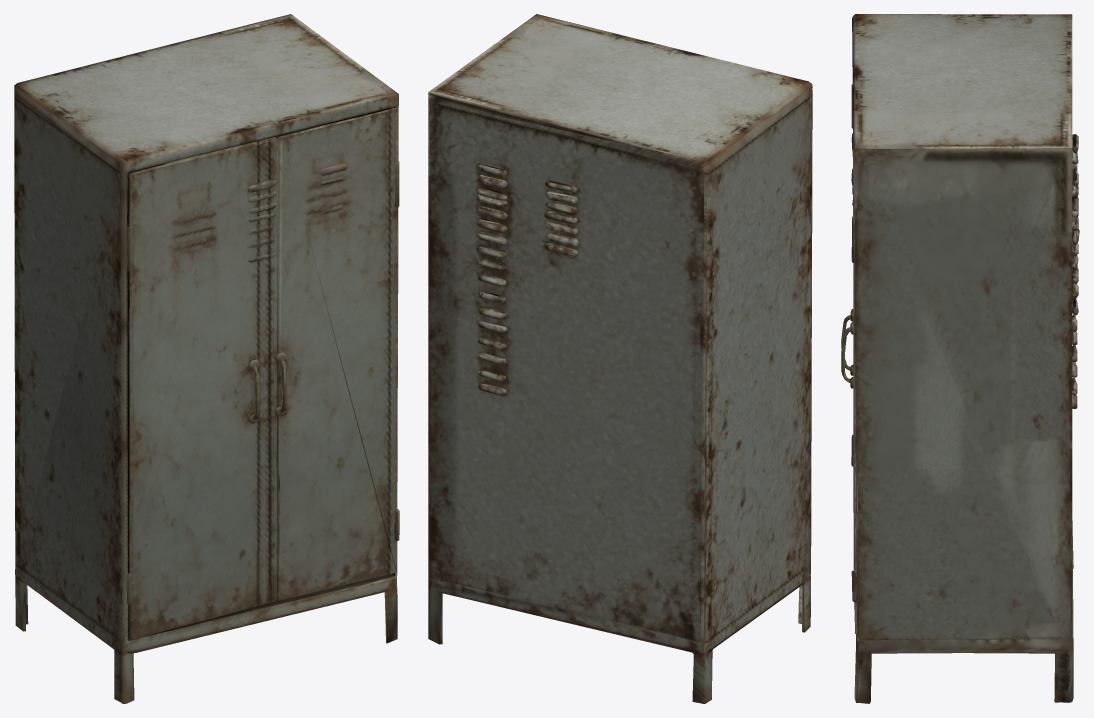
The model's file is big metal locker.fbx.
3 renders of one model, left to right at view 1: azimuth 30°, elevation 25°; view 2: azimuth 150°, elevation 25°; view 3: azimuth 270°, elevation 25°, orthographic.
Parts seen in each view (by area): view 1: big metal locker; view 2: big metal locker; view 3: big metal locker.
Part boxes in pixels (x1,y1,x2,y2): big metal locker: (14, 14, 399, 703); big metal locker: (428, 14, 812, 703); big metal locker: (841, 14, 1079, 703).
Bounding box in the file's own units: 313 × 589 × 229.
Materials: 1 (1 with a texture image).
